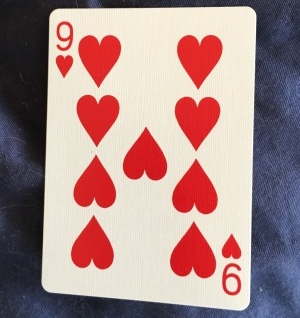card: (40, 5, 259, 313)
